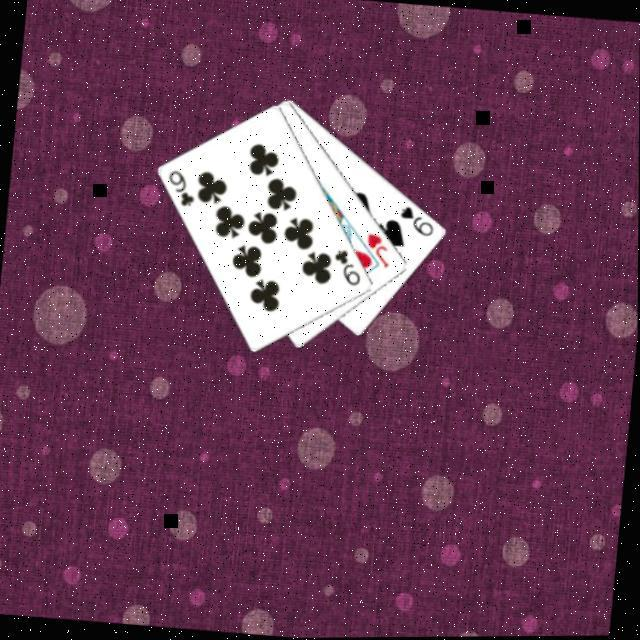9C: (164, 167, 202, 212), (331, 247, 368, 291)
9S: (397, 205, 440, 242)
JH: (363, 232, 396, 273)
